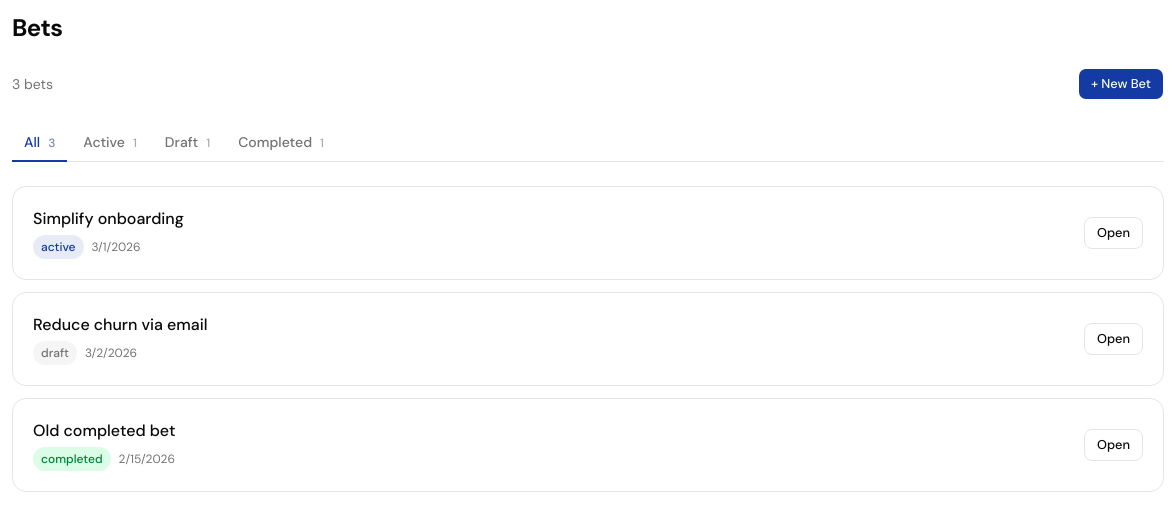
Test case: BetsPage › enables create button when title and message are filled
The width and height of the screenshot is (1176, 509).
Click the button "+ New Bet" at (1121, 84), box top-left (1078, 68), bottom-right (1164, 100)
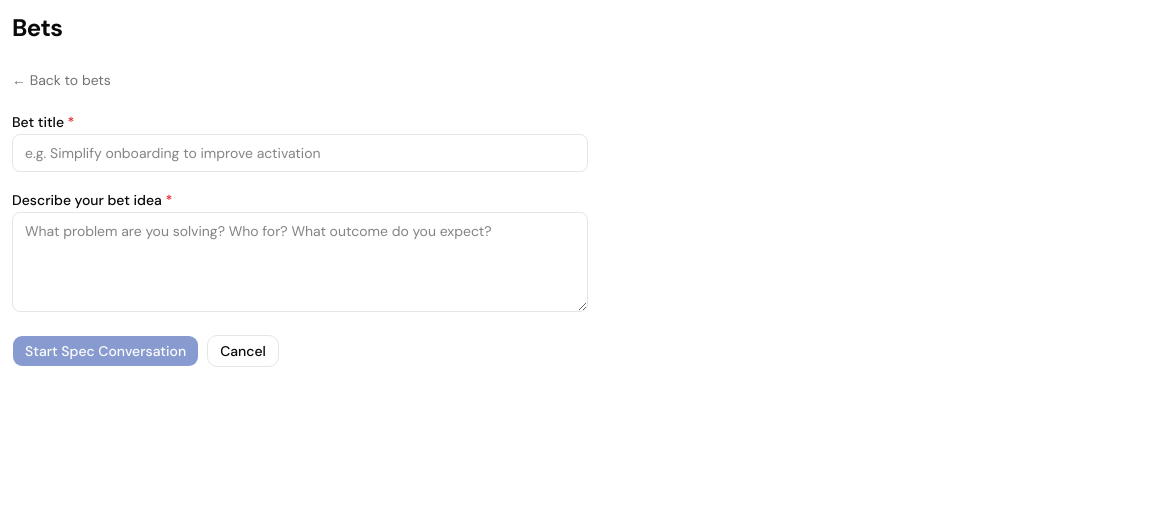
Type "My new bet" into the field with placeholder "e.g. Simplify onboarding to improve activation" at (300, 153), box top-left (12, 134), bottom-right (588, 172)
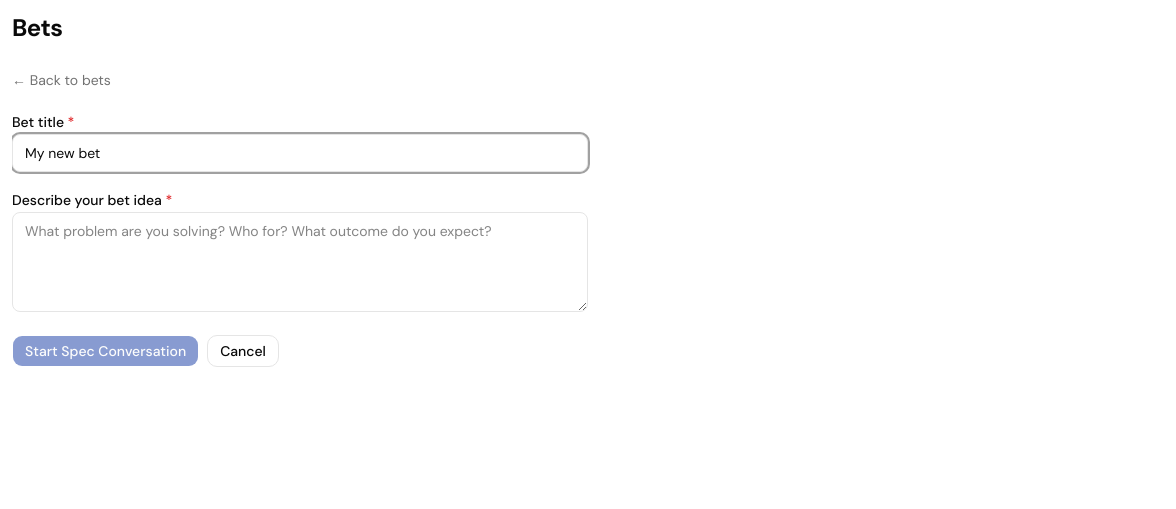
Type "We want to improve activation" into the text box with placeholder "What problem" at (300, 262), box top-left (12, 212), bottom-right (588, 312)
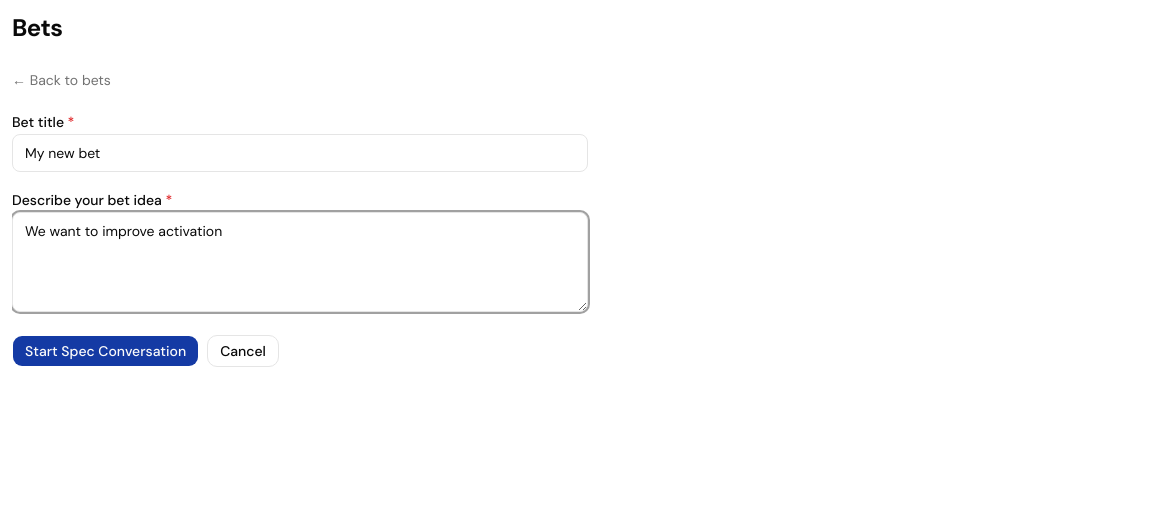
expect the button "Start Spec Conversation" is enabled: met, box top-left (12, 335), bottom-right (199, 367)
